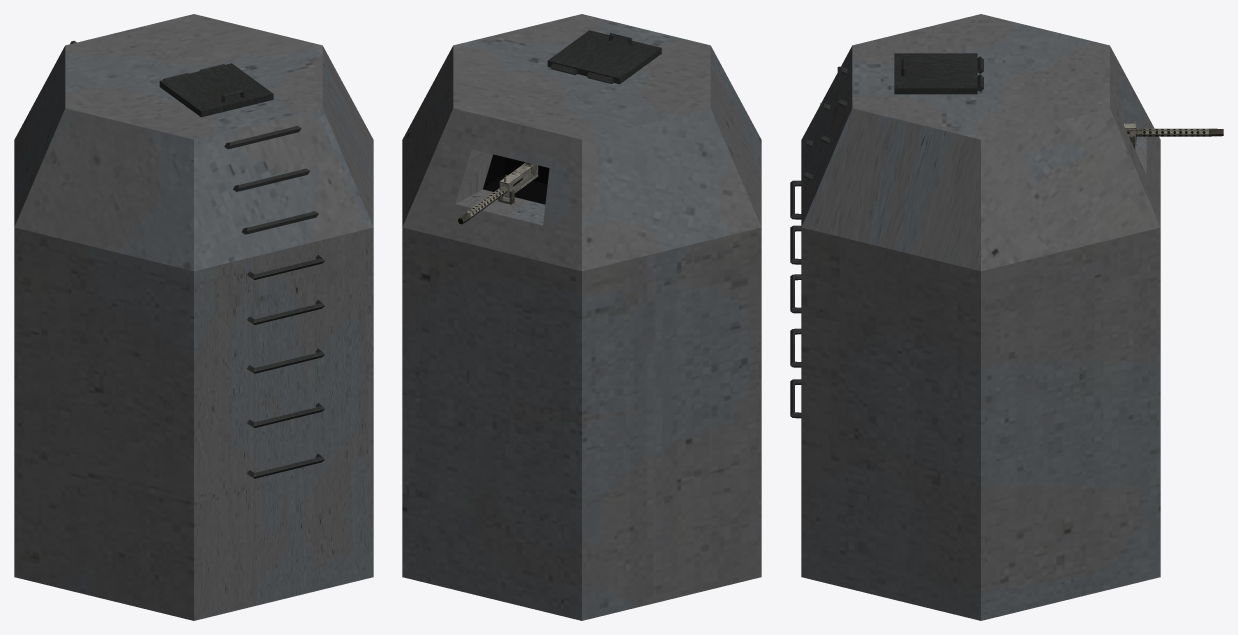
The model's file is pillbox.glb.
3 views of the same model, side by side, from view 1: azimuth 30°, elevation 25°; view 2: azimuth 150°, elevation 25°; view 3: azimuth 270°, elevation 25° (orthographic).
Visible parts, largest first — view 1: 00_chassis_pillbox_usmc.mesh; view 2: 00_chassis_pillbox_usmc.mesh, weapon_turret_0_m1919_hmg.mesh; view 3: 00_chassis_pillbox_usmc.mesh, weapon_turret_0_m1919_hmg.mesh.
Boxes of the visible parts, bbox=[...] form: 00_chassis_pillbox_usmc.mesh: bbox=[14, 14, 373, 620]; 00_chassis_pillbox_usmc.mesh: bbox=[402, 14, 761, 620]; weapon_turret_0_m1919_hmg.mesh: bbox=[458, 162, 538, 224]; 00_chassis_pillbox_usmc.mesh: bbox=[790, 14, 1160, 620]; weapon_turret_0_m1919_hmg.mesh: bbox=[1124, 121, 1223, 149].
Bounding box in the file's own units: 3.99 × 4.98 × 4.17.
Materials: 38 (2 with a texture image).
